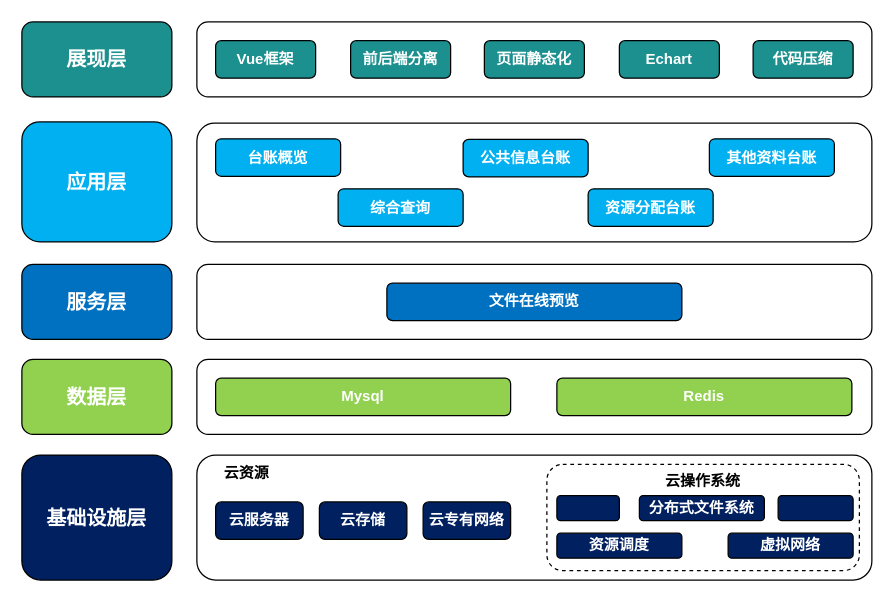
This 894x603 diagram has some shape labels left out. Each missing label, with the centre of its shape:
容器: [587,507]
资源编排: [815,507]
